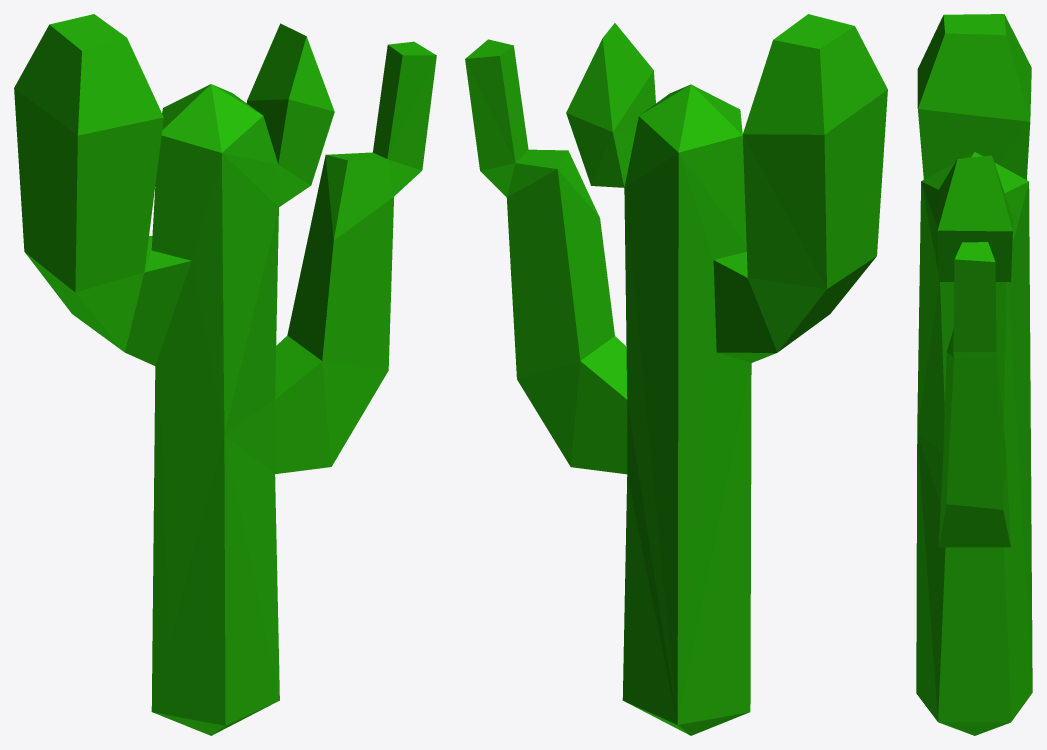
Rendered from thor1.fbx.
The picture shows the model from 3 angles, left to right: view 1: azimuth 30°, elevation 25°; view 2: azimuth 150°, elevation 25°; view 3: azimuth 270°, elevation 25°; orthographic projection. The views are drawn at different scales.
Parts seen in each view (by area): view 1: Icosphere; view 2: Icosphere; view 3: Icosphere.
Boxes of the visible parts, left/top/right/bottom form: Icosphere: left=14, top=14, right=436, bottom=735; Icosphere: left=465, top=14, right=887, bottom=735; Icosphere: left=916, top=14, right=1032, bottom=735.
Size of the model in its own units: 307 by 567 by 90.79.
